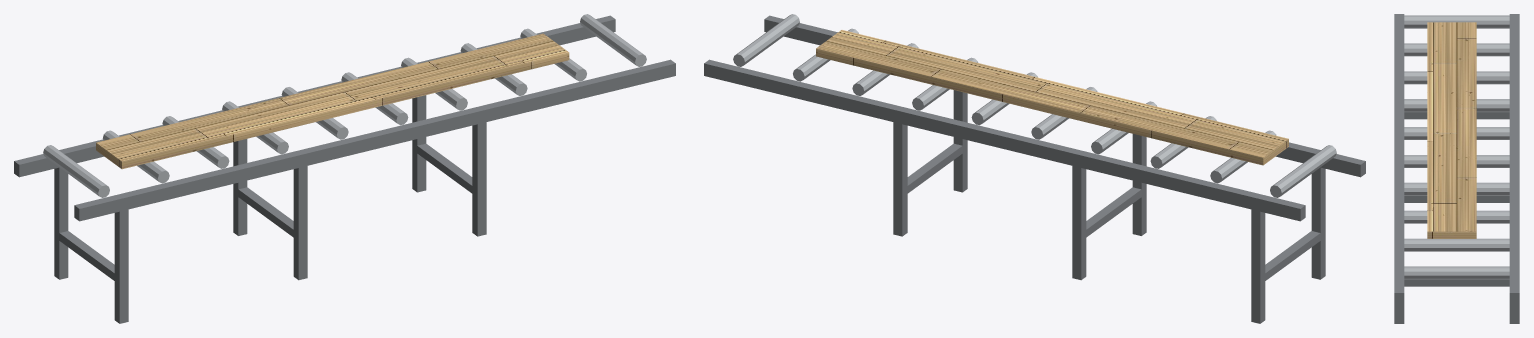
Rendered from roller_table.glb.
3 views of the same model, side by side, from view 1: azimuth 30°, elevation 25°; view 2: azimuth 150°, elevation 25°; view 3: azimuth 270°, elevation 25° (orthographic). The views are drawn at different scales.
Visible parts, largest first — view 1: roller_table_steel_d, roller_table_lumber, roller_table_steel; view 2: roller_table_steel_d, roller_table_lumber, roller_table_steel; view 3: roller_table_lumber, roller_table_steel, roller_table_steel_d.
Part boxes in pixels (x1,y1,x2,y2): roller_table_steel_d: (14, 15, 675, 323); roller_table_lumber: (96, 33, 569, 169); roller_table_steel: (43, 14, 646, 197); roller_table_steel_d: (704, 15, 1365, 323); roller_table_lumber: (816, 30, 1288, 165); roller_table_steel: (733, 14, 1336, 197); roller_table_lumber: (1427, 22, 1476, 238); roller_table_steel: (1404, 15, 1509, 279); roller_table_steel_d: (1394, 14, 1519, 323).
Size of the model in its own units: 4 by 0.93 by 0.76.
Materials: 3 (1 with a texture image).
